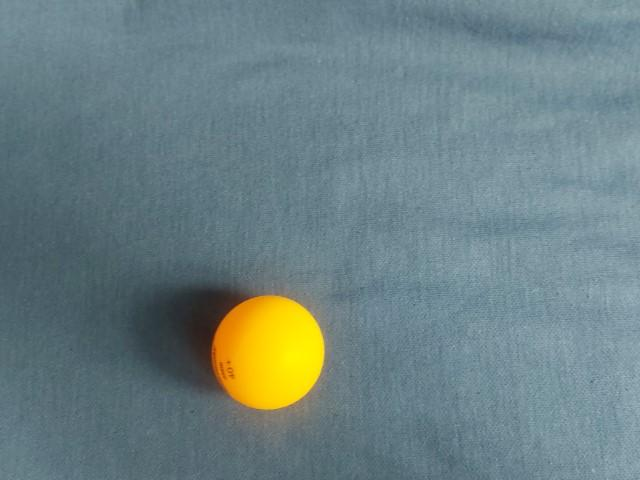oball: (304, 66, 436, 193)
